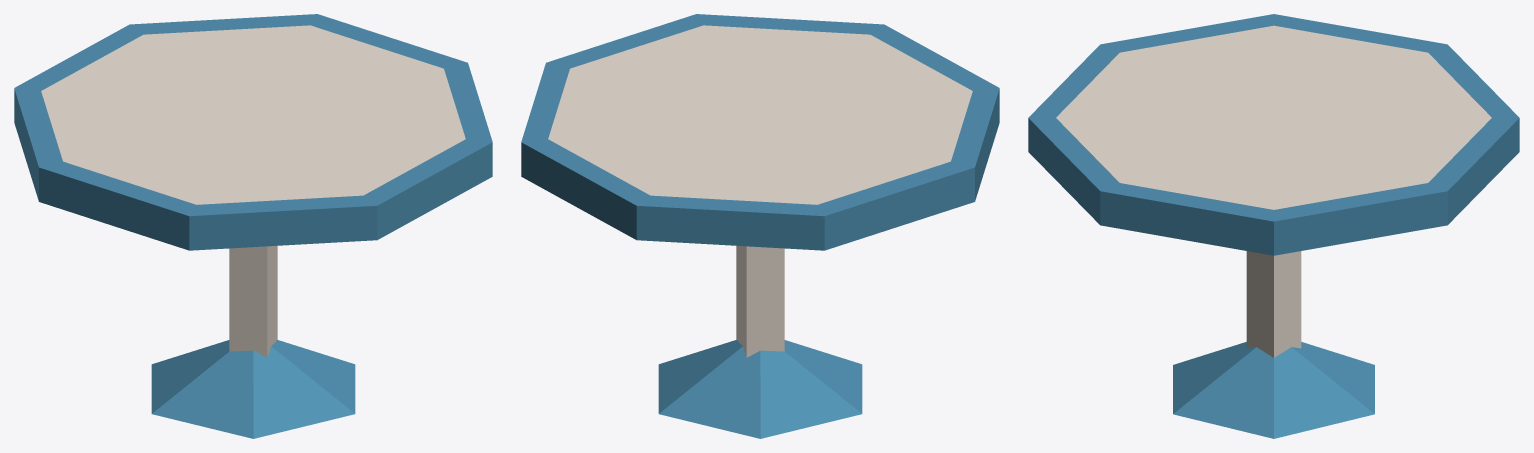
The model's file is tableBase.FBX.
3 views of the same model, side by side, from view 1: azimuth 30°, elevation 25°; view 2: azimuth 150°, elevation 25°; view 3: azimuth 270°, elevation 25° (orthographic).
Parts seen in each view (by area): view 1: tableBase; view 2: tableBase; view 3: tableBase.
Boxes of the visible parts, x1,y1,x2,y2 form: tableBase: [14, 14, 492, 438]; tableBase: [521, 14, 999, 438]; tableBase: [1028, 14, 1519, 438].
Bounding box in the file's own units: 4.8 × 2.93 × 4.8.
